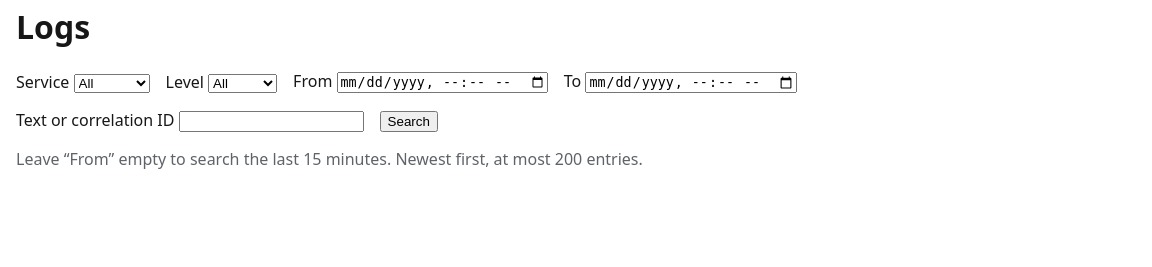
it: LogsPage › sends the chosen filters and shows the entries with correlation IDs
The image size is (1152, 267).
Select "checkout" in the dropdown labelled "Service": (112, 84) [74,74,150,93]
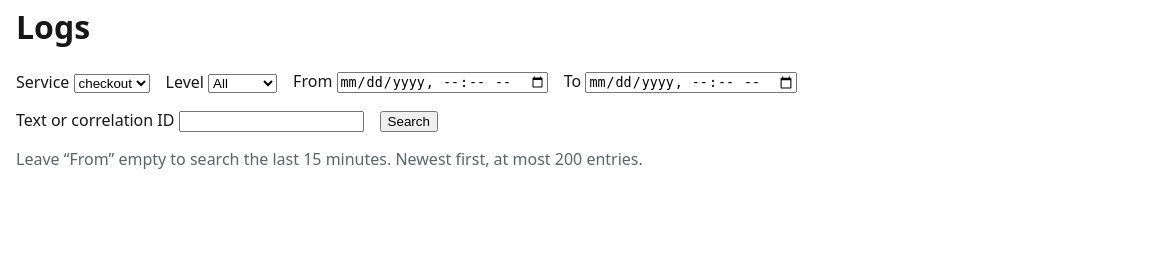
Select "error" in the dropdown labelled "Level": (243, 84) [208,74,277,93]
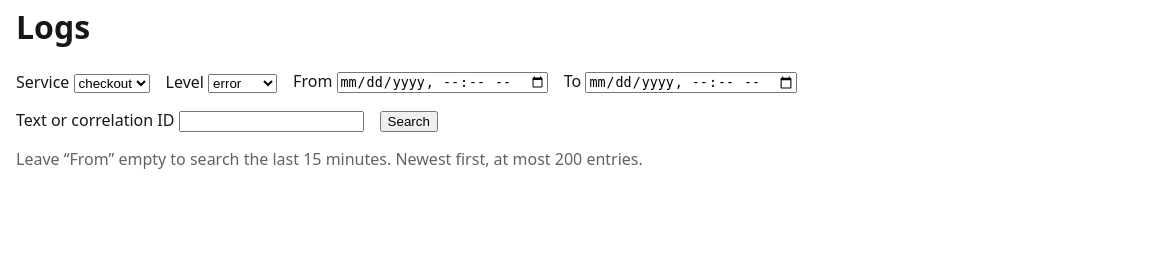
In the search field labelled "Text or correlation ID": (271, 122) [179,111,364,132], type "failed"
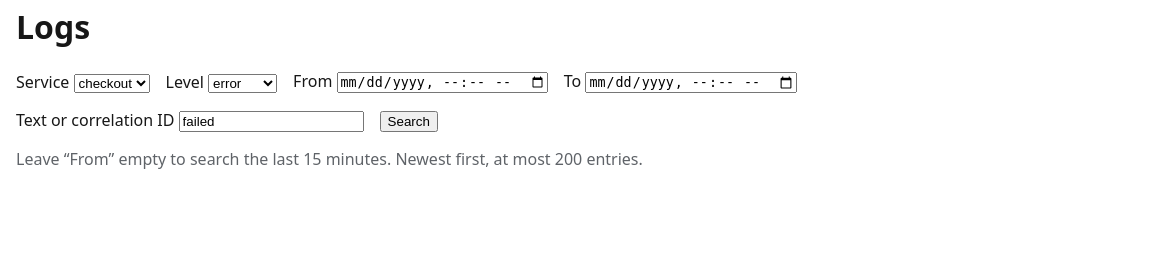
Click the button "Search": (409, 122) [380,111,438,132]
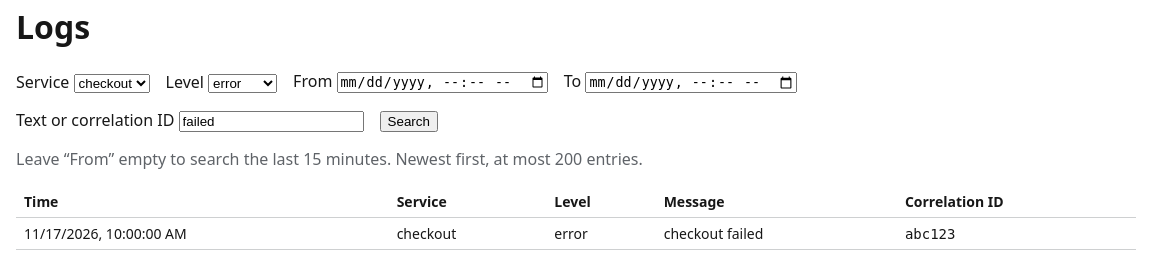
Check: the text "abc123" is shown, box [905,226,956,242]
